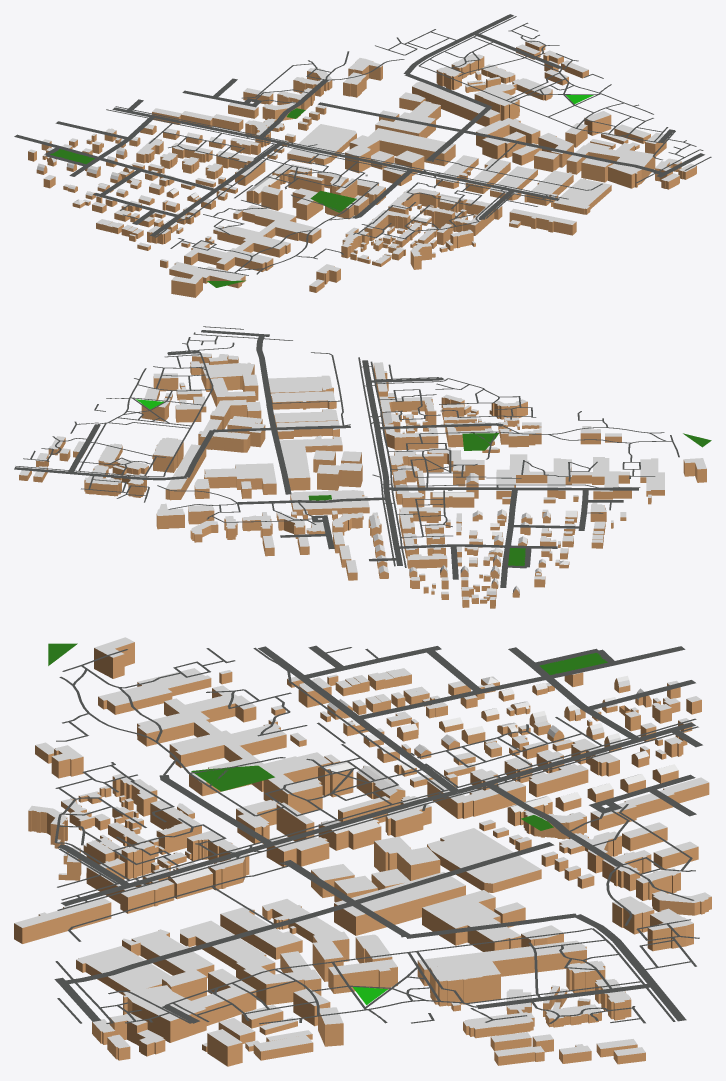
The model's file is rise_export_no_ground.fbx_Scene.fbx.
3 views of the same model, one above another, from view 1: azimuth 30°, elevation 25°; view 2: azimuth 150°, elevation 25°; view 3: azimuth 270°, elevation 25° (orthographic). The views are drawn at different scales.
Visible parts, largest first — view 1: map_9.osm_paths_footway, map_9.osm_roads_residential, map_9.osm_buildings.093, map_9.osm_buildings.364, map_9.osm_roads_tertiary, map_9.osm_buildings.004, map_9.osm_forest, map_9.osm_buildings.024, map_9.osm_buildings.259, map_9.osm_buildings.023, map_9.osm_buildings.532, map_9.osm_buildings.530 (+19 smaller); view 2: map_9.osm_paths_footway, map_9.osm_roads_residential, map_9.osm_buildings.093, map_9.osm_roads_tertiary, map_9.osm_buildings.364, map_9.osm_buildings.004, map_9.osm_forest, map_9.osm_buildings.023, map_9.osm_buildings.024, map_9.osm_buildings.259, map_9.osm_buildings.529, map_9.osm_buildings.294 (+17 smaller); view 3: map_9.osm_paths_footway, map_9.osm_roads_residential, map_9.osm_buildings.093, map_9.osm_buildings.364, map_9.osm_roads_tertiary, map_9.osm_buildings.004, map_9.osm_forest, map_9.osm_buildings.023, map_9.osm_buildings.530, map_9.osm_buildings.024, map_9.osm_buildings.259, map_9.osm_buildings.291 (+50 smaller).
Part boxes in pixels (x1,y1,x2,y2): map_9.osm_paths_footway: (106, 16, 711, 275); map_9.osm_roads_residential: (14, 14, 674, 236); map_9.osm_buildings.093: (184, 205, 320, 264); map_9.osm_buildings.364: (184, 211, 321, 271); map_9.osm_roads_tertiary: (112, 107, 704, 200); map_9.osm_buildings.004: (287, 124, 356, 159); map_9.osm_forest: (50, 108, 356, 287); map_9.osm_buildings.024: (554, 178, 611, 208); map_9.osm_buildings.259: (368, 128, 455, 153); map_9.osm_buildings.023: (375, 101, 440, 133); map_9.osm_buildings.532: (412, 86, 500, 126); map_9.osm_buildings.530: (379, 140, 455, 166); map_9.osm_paths_footway: (15, 326, 679, 567); map_9.osm_roads_residential: (14, 335, 638, 587); map_9.osm_buildings.093: (496, 454, 631, 491); map_9.osm_roads_tertiary: (201, 330, 402, 565); map_9.osm_buildings.364: (496, 467, 631, 499); map_9.osm_buildings.004: (290, 490, 369, 509); map_9.osm_forest: (308, 433, 711, 566); map_9.osm_buildings.023: (204, 463, 276, 483); map_9.osm_buildings.024: (268, 375, 331, 392); map_9.osm_buildings.259: (280, 442, 309, 478); map_9.osm_buildings.529: (317, 465, 362, 490); map_9.osm_buildings.294: (204, 466, 276, 494); map_9.osm_paths_footway: (54, 647, 699, 1024); map_9.osm_roads_residential: (57, 645, 702, 1023); map_9.osm_buildings.093: (137, 685, 330, 783); map_9.osm_buildings.364: (137, 688, 331, 796); map_9.osm_roads_tertiary: (54, 722, 695, 1021); map_9.osm_buildings.004: (427, 828, 541, 883); map_9.osm_forest: (48, 643, 607, 830); map_9.osm_buildings.023: (422, 890, 520, 941); map_9.osm_buildings.530: (334, 885, 465, 935); map_9.osm_buildings.024: (76, 946, 170, 990); map_9.osm_buildings.259: (334, 872, 465, 916); map_9.osm_buildings.291: (430, 968, 500, 1006).
Bounding box in the file's own units: 71782 × 3500 × 52331.
